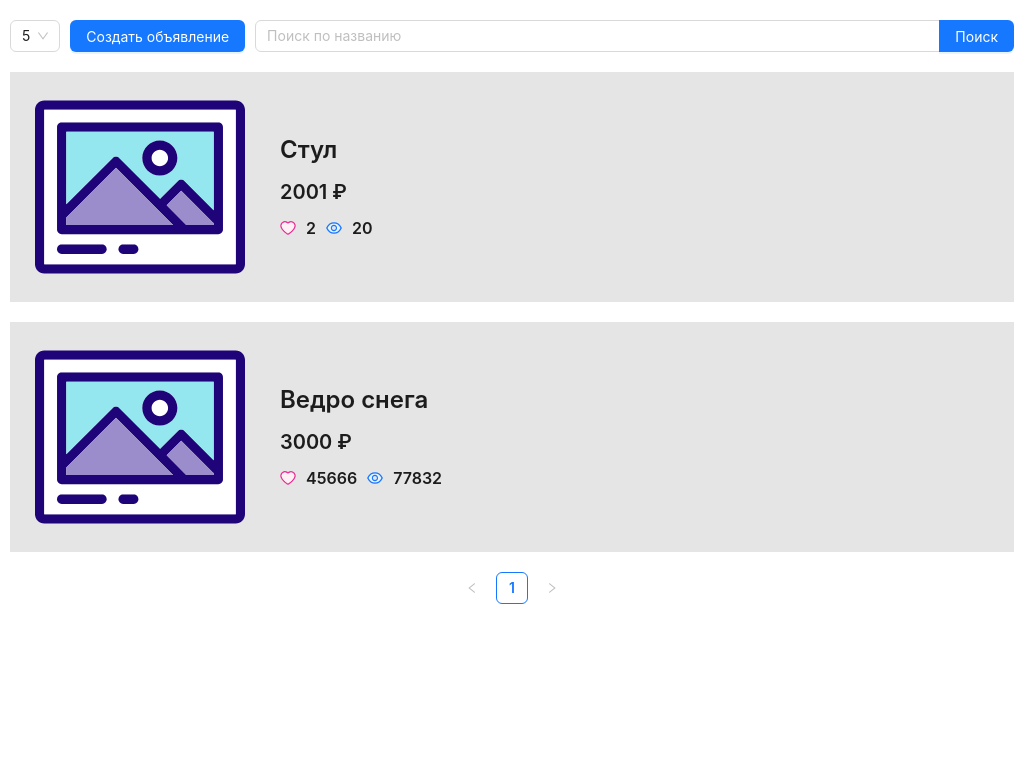
Scenario: Test AllAds › test redirect for more details
Expected: the number of elements with test id "allAds-item" is 2, x1=10 y1=72 x2=1014 y2=302; x1=10 y1=322 x2=1014 y2=552
Click the link with test id "allAds-item".
click(0, 72)  # box x1=0 y1=72 x2=1023 y2=302
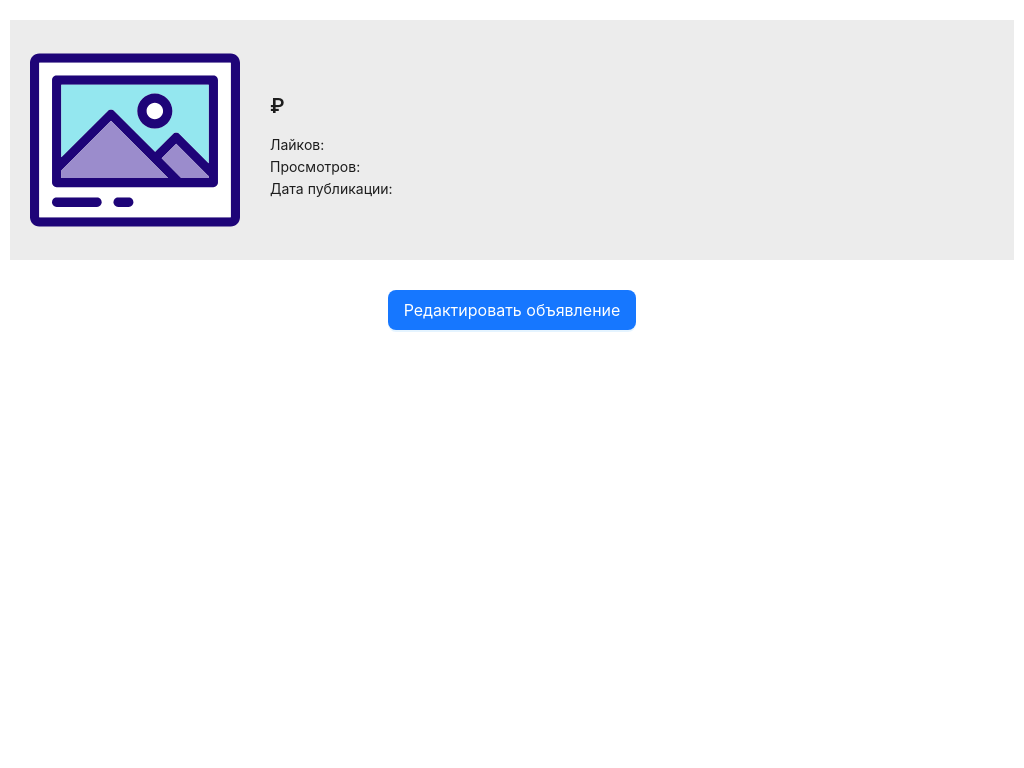
Expected: the element with test id "advertisement-page" is shown, x1=0 y1=20 x2=1023 y2=330
